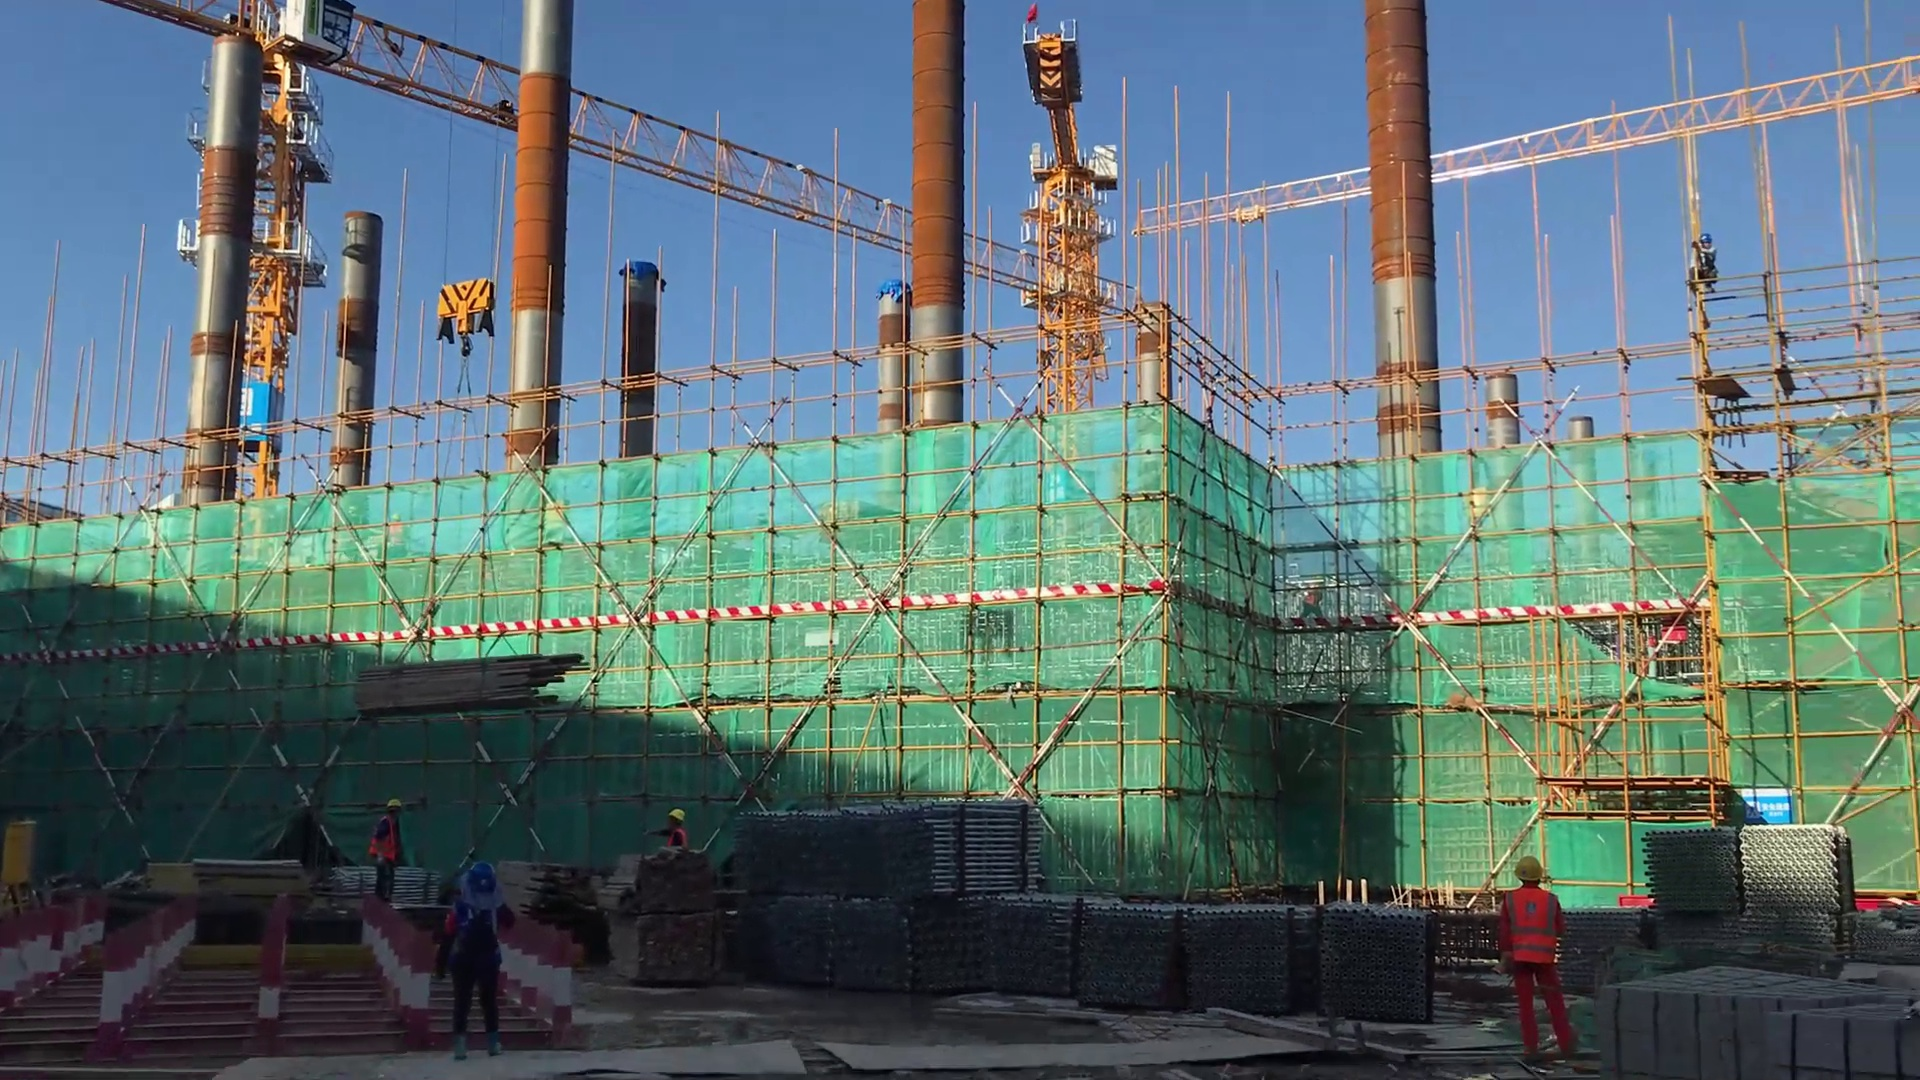ebox: (4, 813, 33, 881)
helmet: (449, 858, 510, 922), (376, 789, 405, 819), (1512, 857, 1544, 885), (664, 808, 686, 832)
hook: (437, 278, 496, 354)
person: (1485, 853, 1601, 1074), (434, 853, 516, 1067), (360, 784, 408, 905), (648, 802, 692, 853)
scaffold: (843, 796, 1049, 890), (1173, 901, 1318, 1023), (819, 893, 985, 991), (1315, 892, 1429, 1026), (1070, 896, 1171, 1012), (1733, 824, 1845, 917), (732, 805, 845, 895), (1635, 823, 1738, 911), (990, 897, 1077, 996), (742, 892, 823, 989)
vest: (1494, 887, 1565, 966), (367, 822, 399, 865)
wood: (332, 638, 599, 734)
